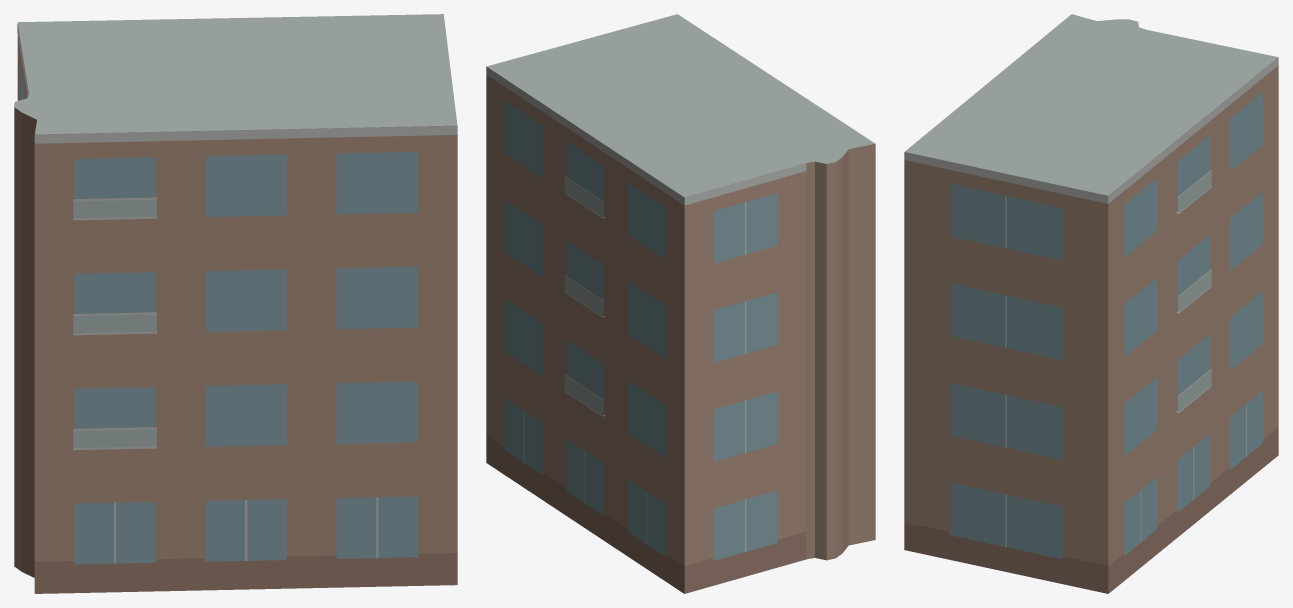
File: survey-upis-33046886.glb
The picture shows the model from 3 angles, left to right: view 1: azimuth 30°, elevation 25°; view 2: azimuth 150°, elevation 25°; view 3: azimuth 270°, elevation 25°; orthographic projection. The views are drawn at different scales.
Parts seen in each view (by area): view 1: survey-upis-33046886.tmp; view 2: survey-upis-33046886.tmp; view 3: survey-upis-33046886.tmp.
Boxes of the visible parts, x1,y1,x2,y2 form: survey-upis-33046886.tmp: [14, 14, 457, 593]; survey-upis-33046886.tmp: [486, 14, 875, 593]; survey-upis-33046886.tmp: [904, 14, 1278, 593].
Bounding box in the file's own units: 11.76 × 12 × 10.23.
